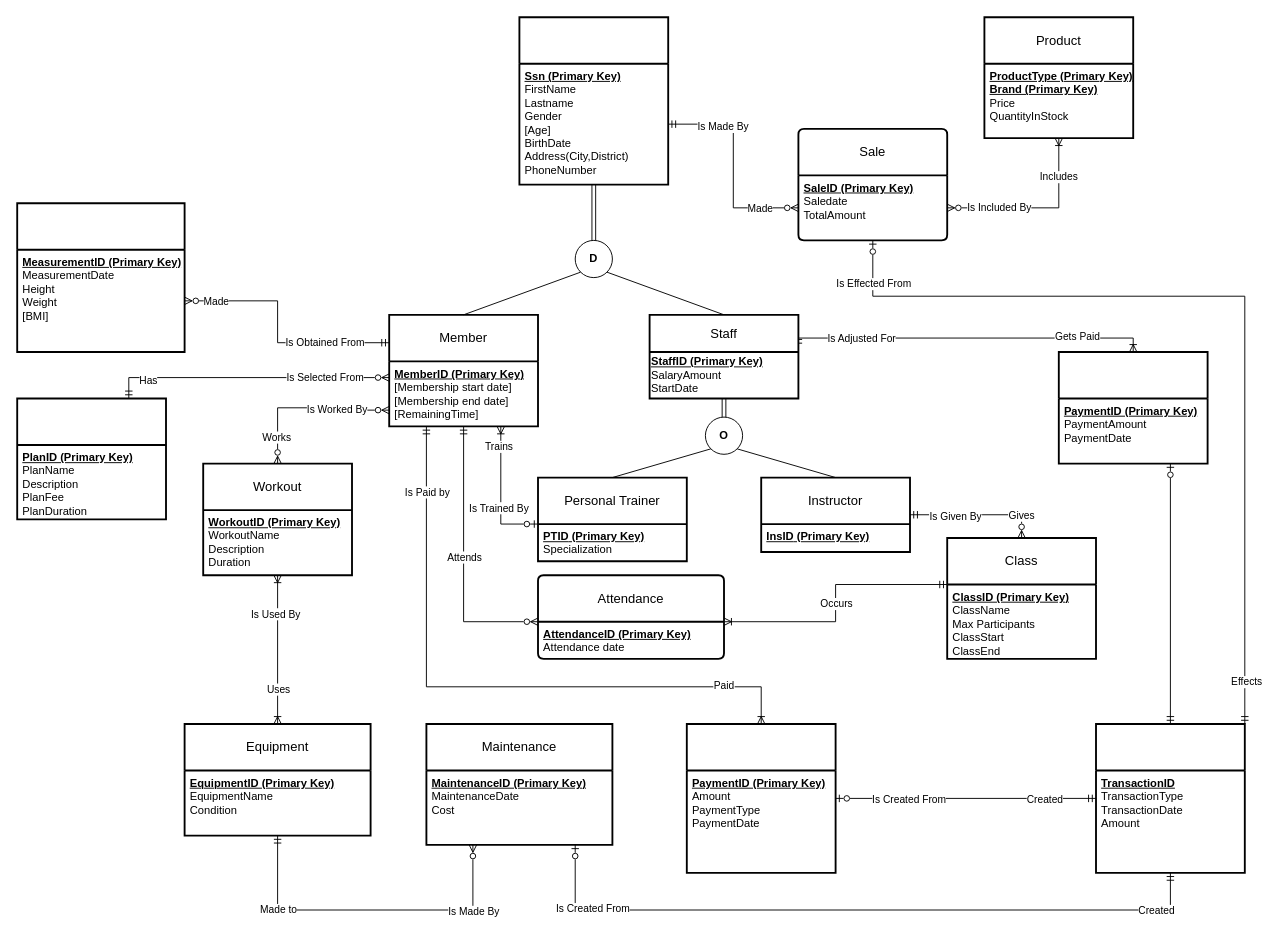
Image size: 1278x935. Some labels were removed from this diagram. Here are the shapes that lost their labels. From the top down, the box of each, then its label:
(518, 16, 669, 185): Person
(16, 202, 185, 352): Body Measurement
(1057, 351, 1208, 464): Salary Payment
(16, 397, 166, 520): Membership Plan
(685, 723, 836, 873): Membership Payment
(1095, 723, 1245, 873): Financial Transaction
